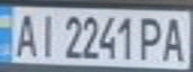1: (115, 12, 139, 61)
2: (60, 11, 84, 60), (78, 11, 100, 61)
4: (100, 11, 121, 61)
A: (157, 14, 190, 63), (9, 9, 39, 58)
I: (33, 10, 60, 58)
P: (136, 14, 166, 61)
